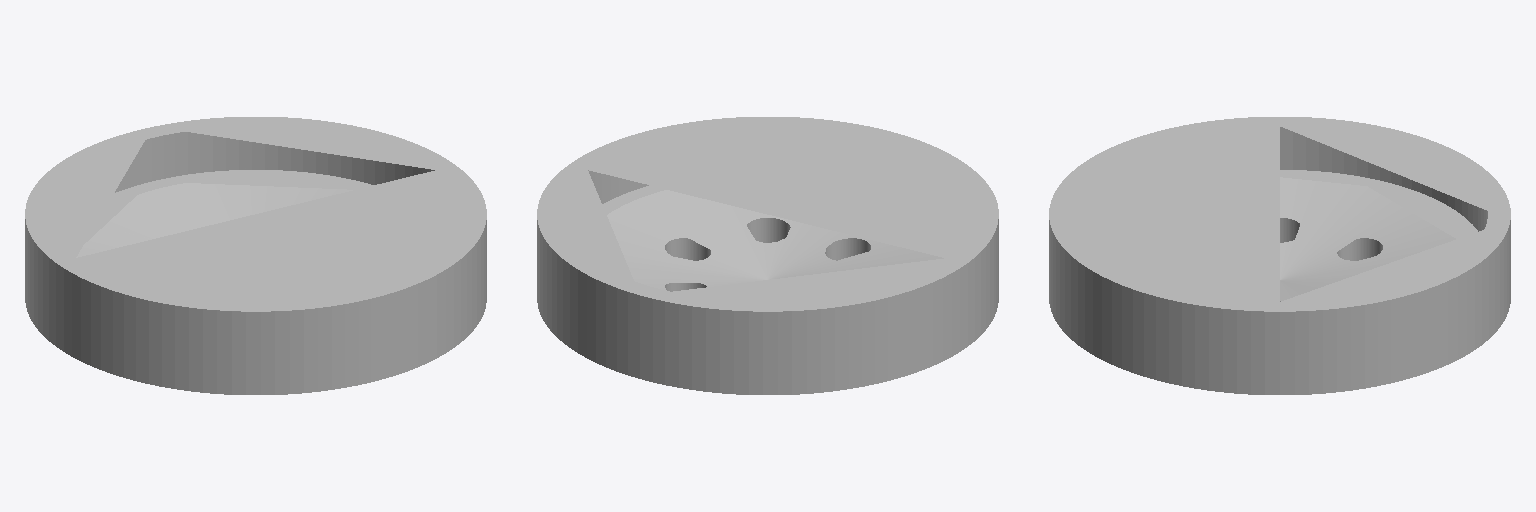
File: LotteryPlate_6hole.obj
3 views of the same model, side by side, from view 1: azimuth 30°, elevation 25°; view 2: azimuth 150°, elevation 25°; view 3: azimuth 270°, elevation 25° (orthographic).
Visible parts, largest first — view 1: 円柱_円柱.003; view 2: 円柱_円柱.003; view 3: 円柱_円柱.003.
Boxes of the visible parts, x1=… form: 円柱_円柱.003: x1=25, y1=117, x2=486, y2=394; 円柱_円柱.003: x1=537, y1=117, x2=998, y2=394; 円柱_円柱.003: x1=1049, y1=117, x2=1510, y2=394.
Bounding box in the file's own units: 1 × 0.2 × 1.